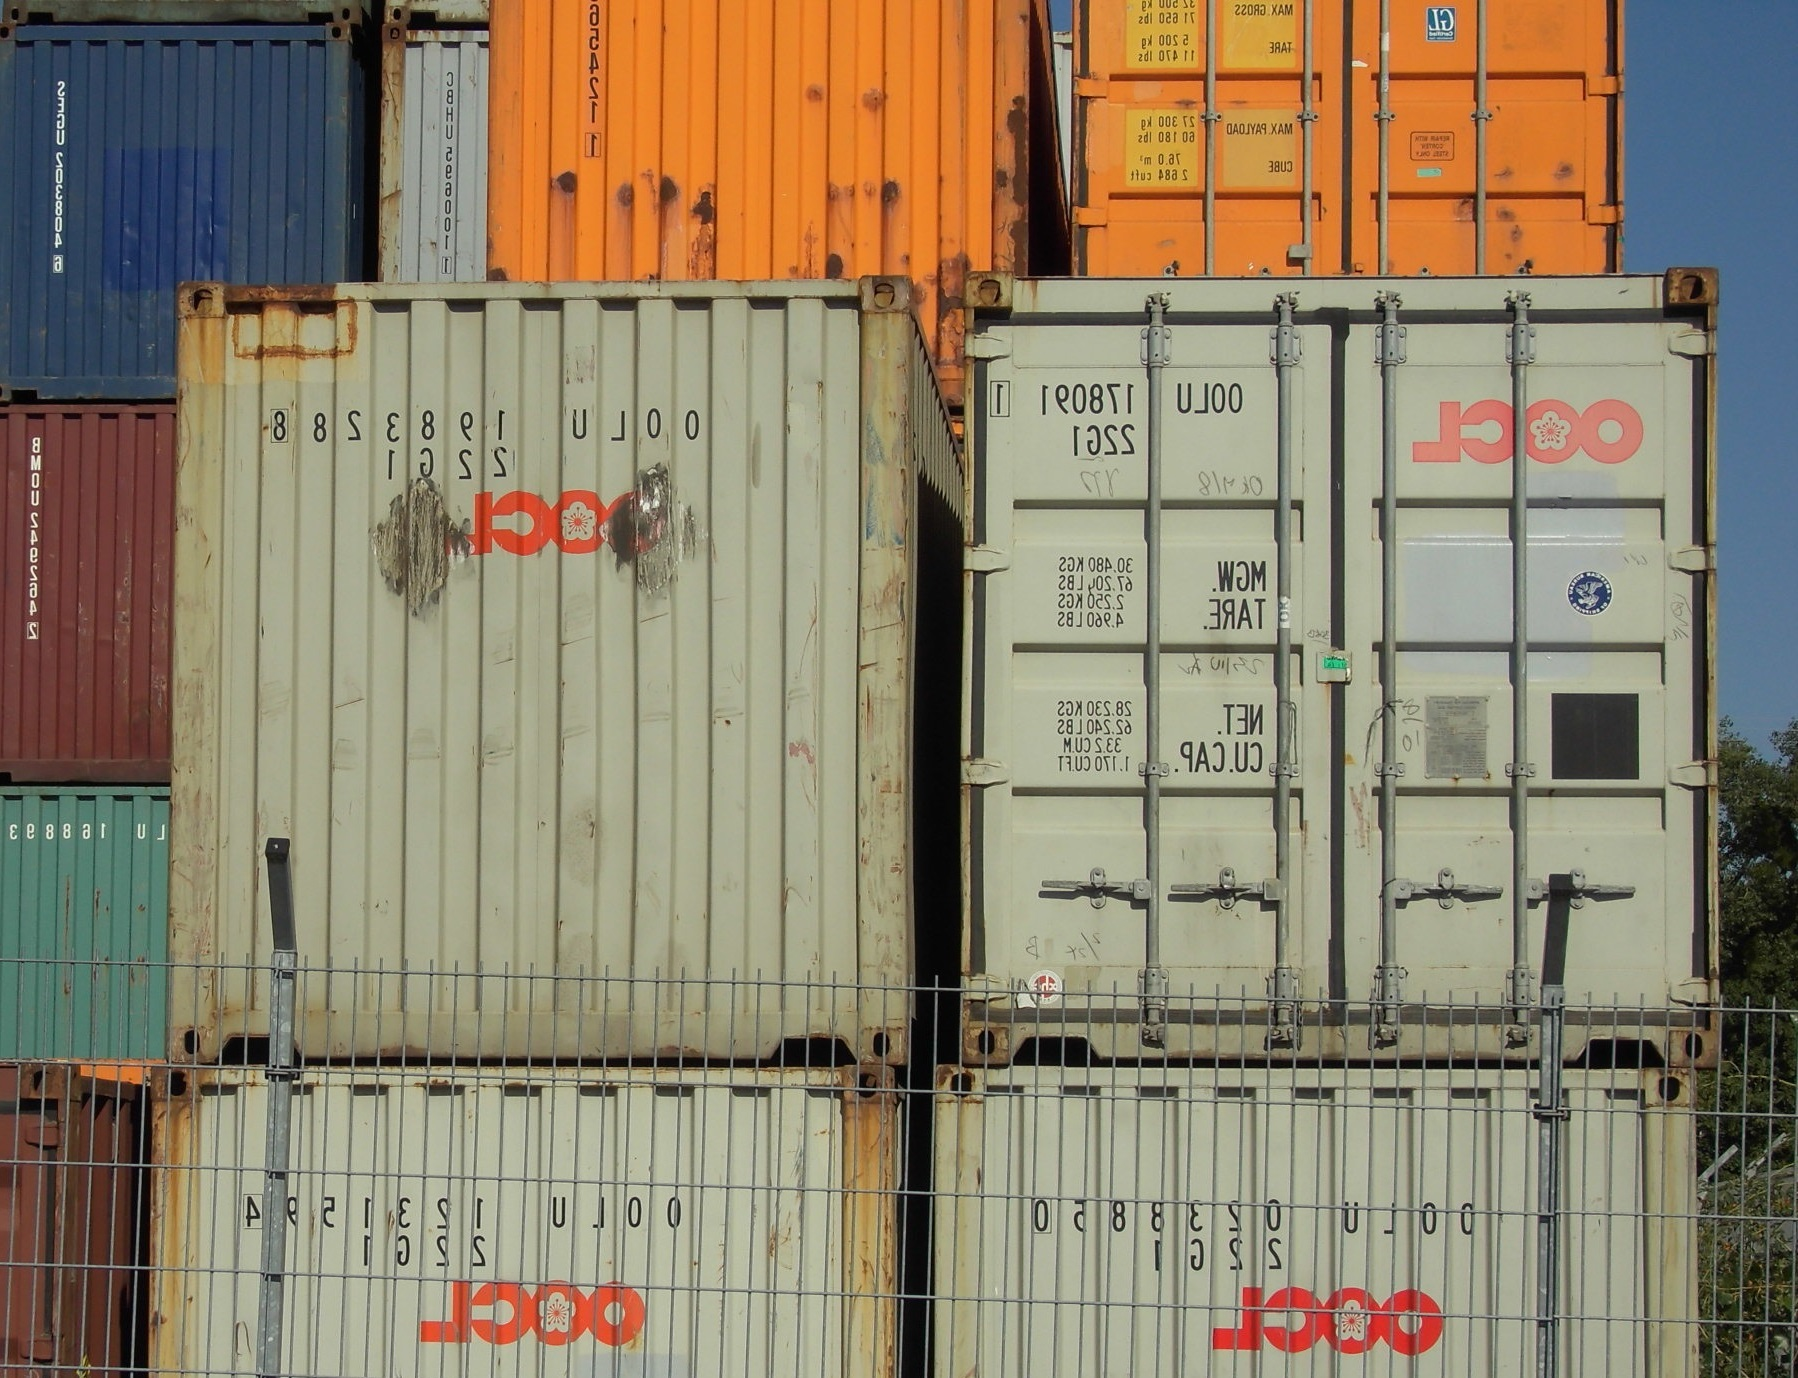container_door: (971, 275, 1713, 1065), (1058, 1, 1627, 281)
container_no_door: (162, 287, 906, 1052), (143, 1070, 896, 1378), (931, 1070, 1684, 1378), (476, 1, 1026, 278), (4, 26, 363, 281), (1, 392, 175, 789), (1, 799, 177, 1057)
